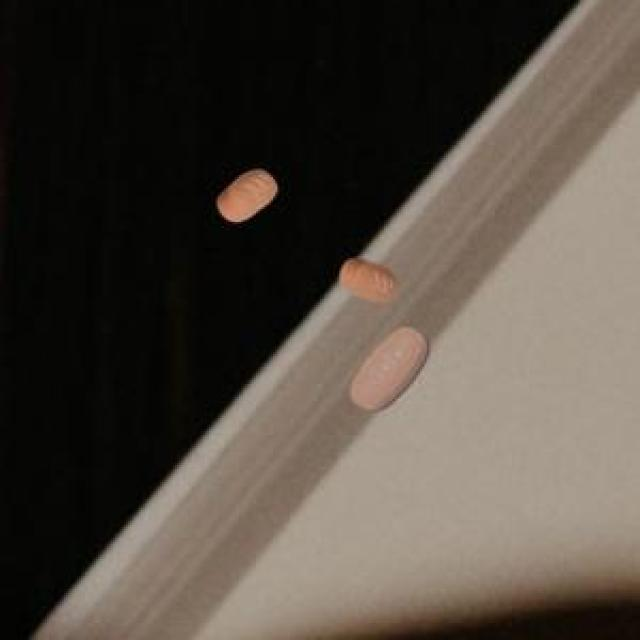Biogesic: (341, 321, 439, 430), (200, 163, 284, 239), (326, 242, 402, 310)
